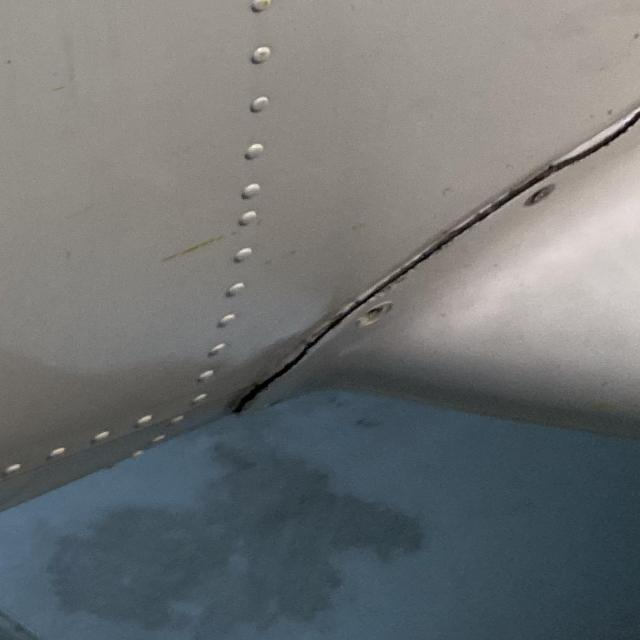Crack: (350, 191, 518, 317), (223, 308, 362, 425), (501, 103, 639, 203)
Missing-head: (359, 303, 394, 326)
